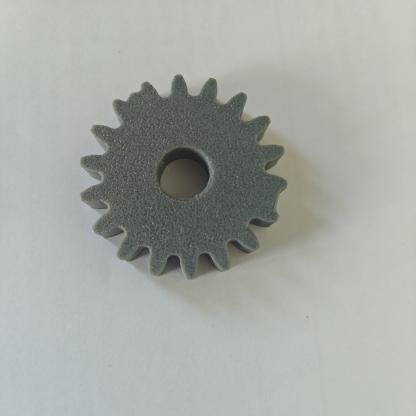defect: (102, 67, 182, 140), (238, 172, 307, 247)
gear: (74, 60, 318, 296)
